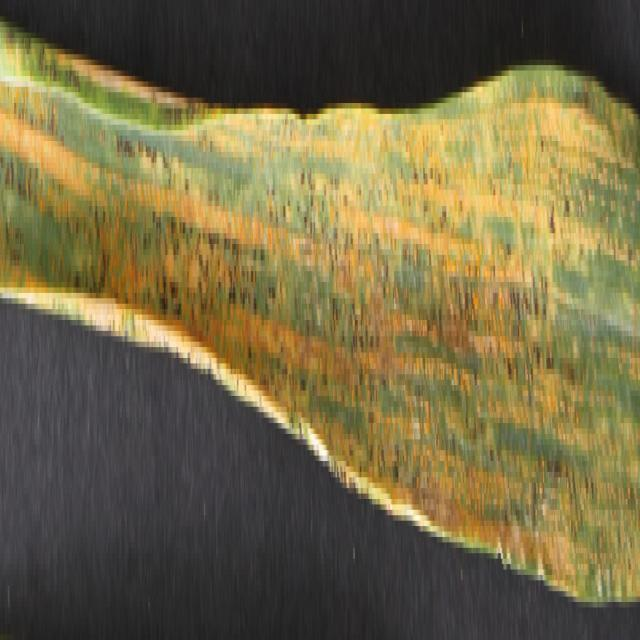leaf rust: (6, 5, 639, 602)
